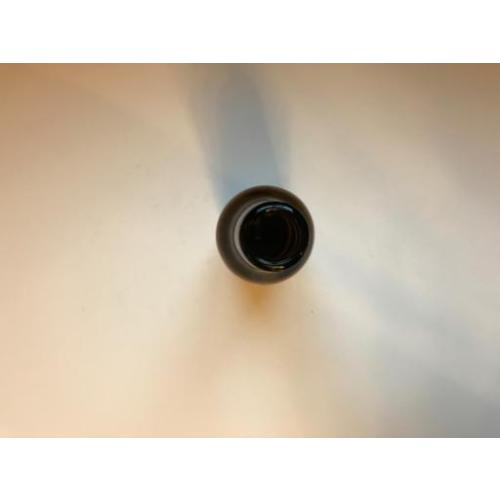glass: (217, 185, 313, 285)
